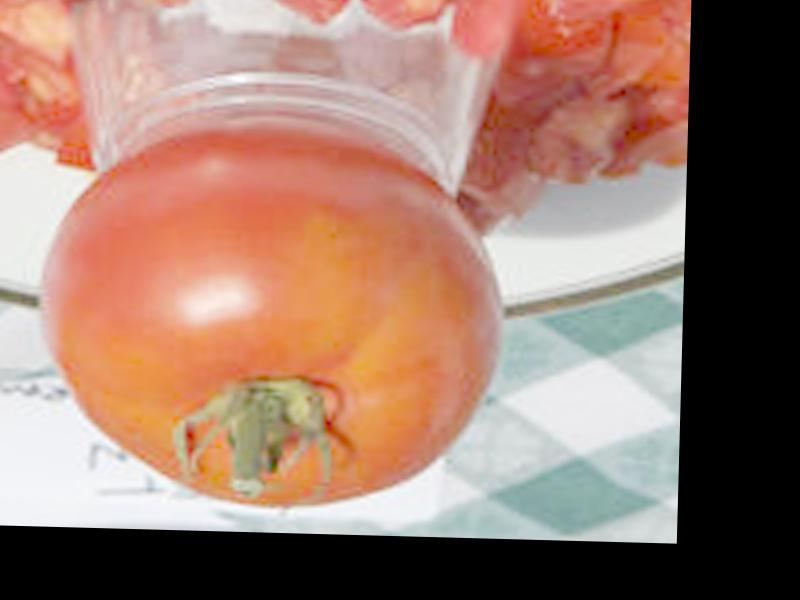Tomato: (31, 121, 509, 517)
